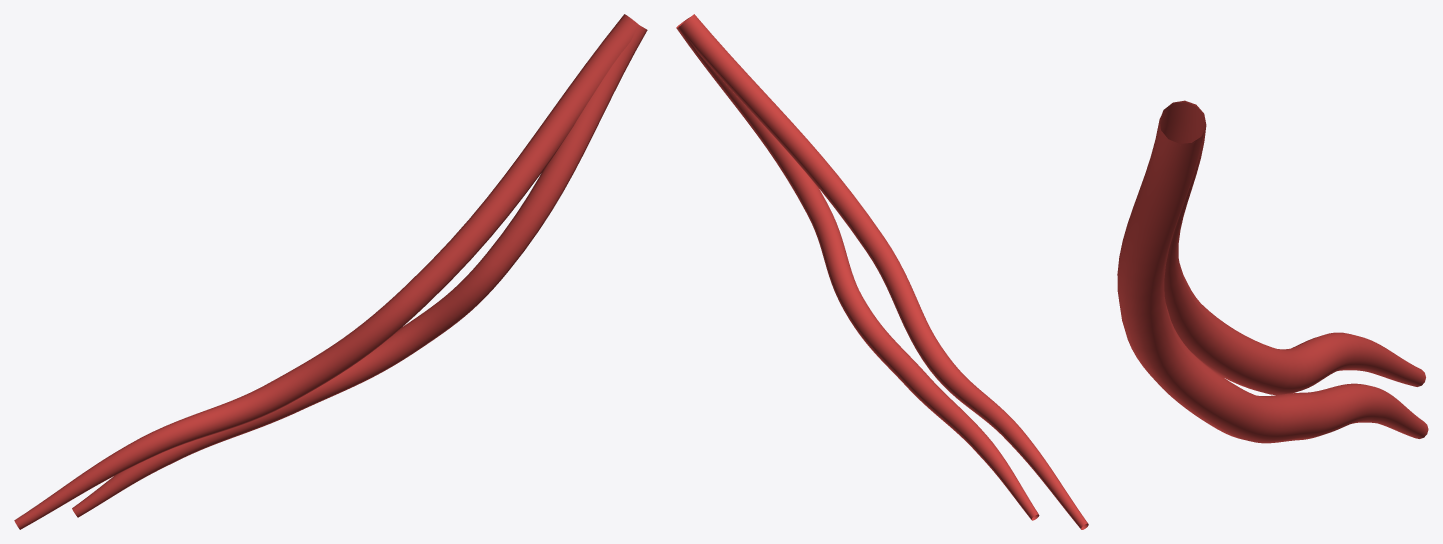
The picture shows the model from 3 angles, left to right: view 1: azimuth 30°, elevation 25°; view 2: azimuth 150°, elevation 25°; view 3: azimuth 270°, elevation 25°; orthographic projection. The views are drawn at different scales.
Parts seen in each view (by area): view 1: 右侧睫状后短动脉; view 2: 右侧睫状后短动脉; view 3: 右侧睫状后短动脉.
Boxes of the visible parts, box(x1,y1,x2,y2) form: 右侧睫状后短动脉: box(14, 14, 647, 529); 右侧睫状后短动脉: box(676, 14, 1088, 529); 右侧睫状后短动脉: box(1117, 100, 1428, 443).
Bounding box in the file's own units: 0.0168 × 0.0125 × 0.00485.
